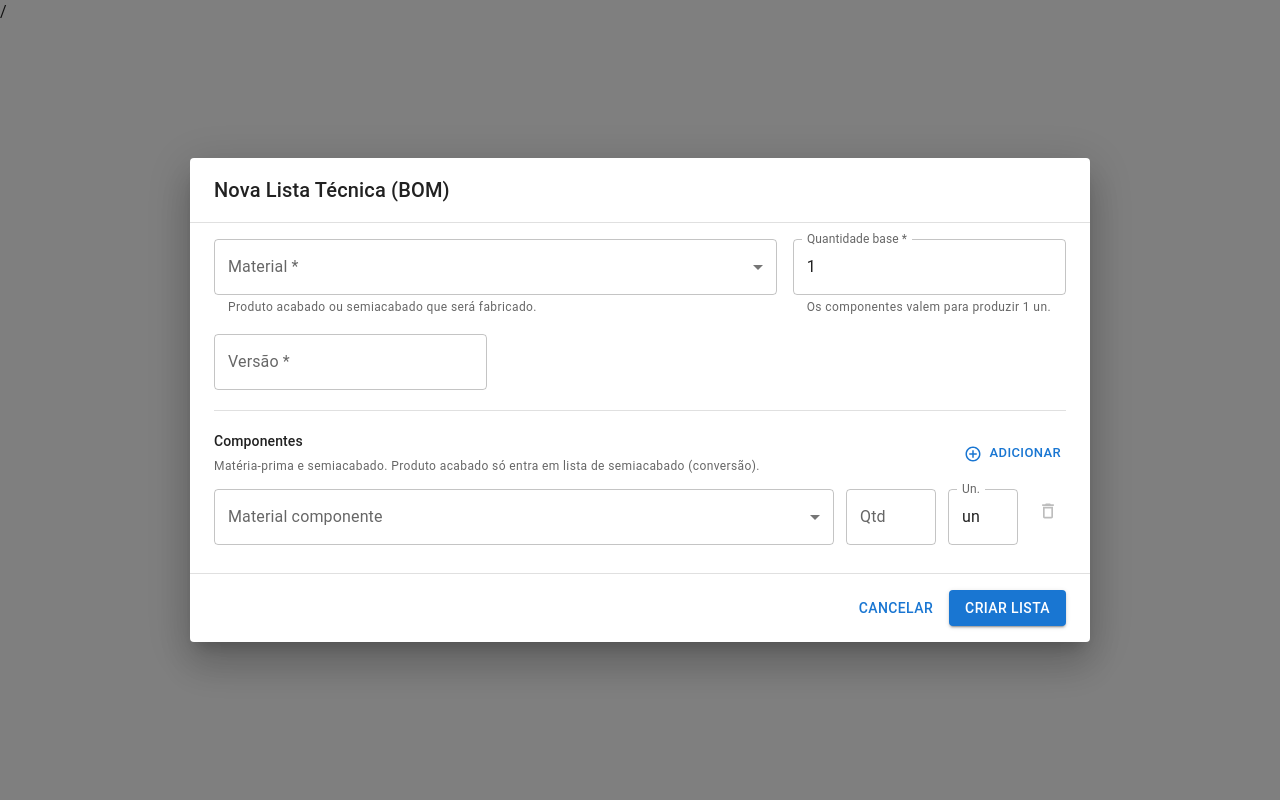
CriarListaTecnicaDialog: quantidade base (ADR-0027) › a base começa em 1 e a ajuda diz para quantas unidades do material os componentes valem
Expected: the heading "Nova Lista Técnica (BOM)" is shown, [214,178,450,202]
Expected: the field labelled "Quantidade base *" holds "1", [793,239,1066,295]
Click the dropdown next to "Material *" at (495, 267), box [214,239,777,295]
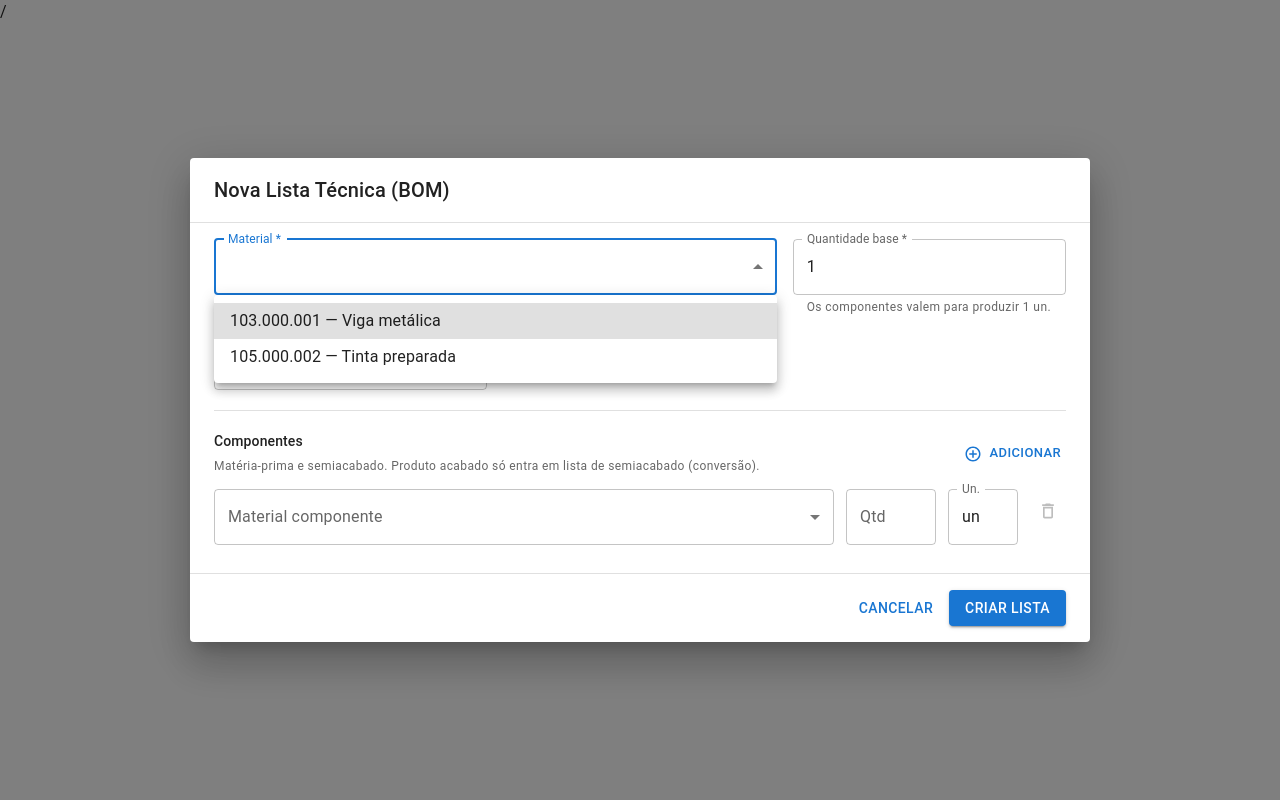
Click the option "105.000.002 — Tinta preparada" at (343, 356), box [230,347,456,366]
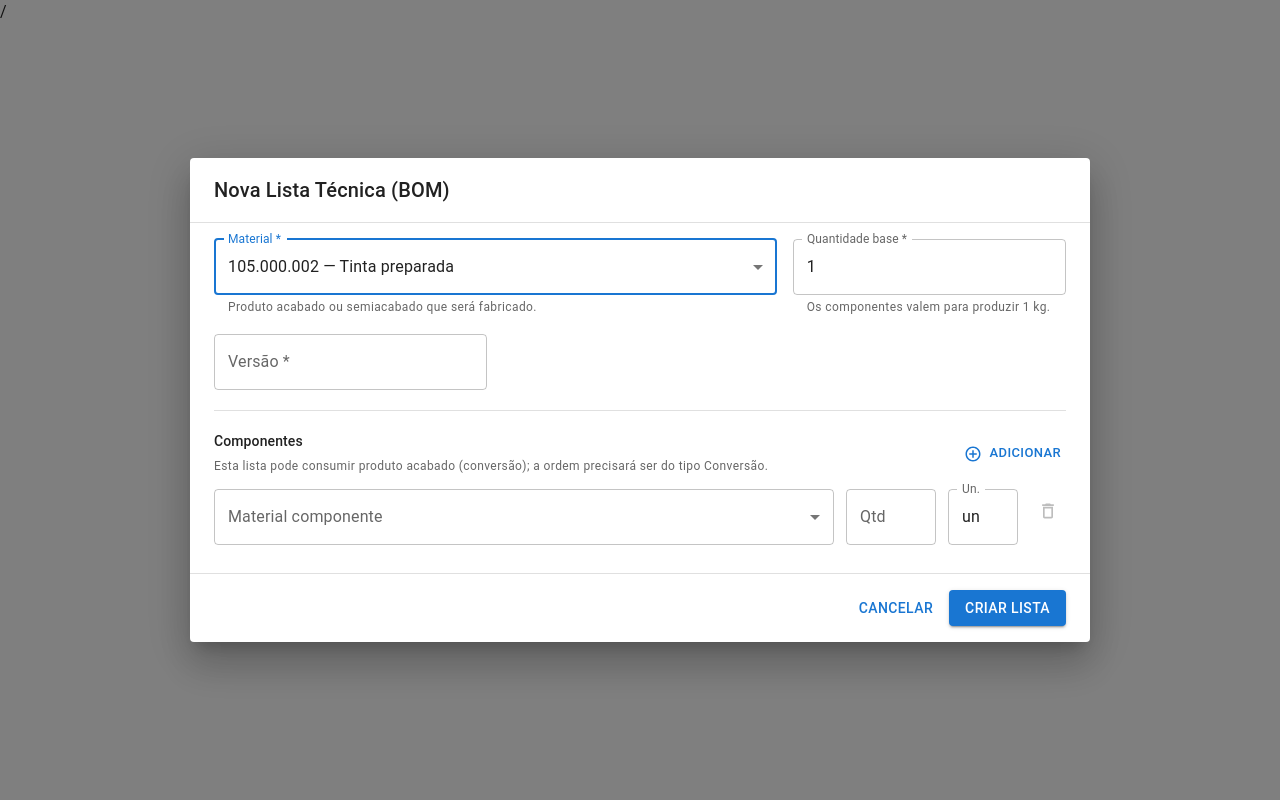
Expected: the text "Os componentes valem para produzir 1 kg." is shown, [807,298,1052,318]
